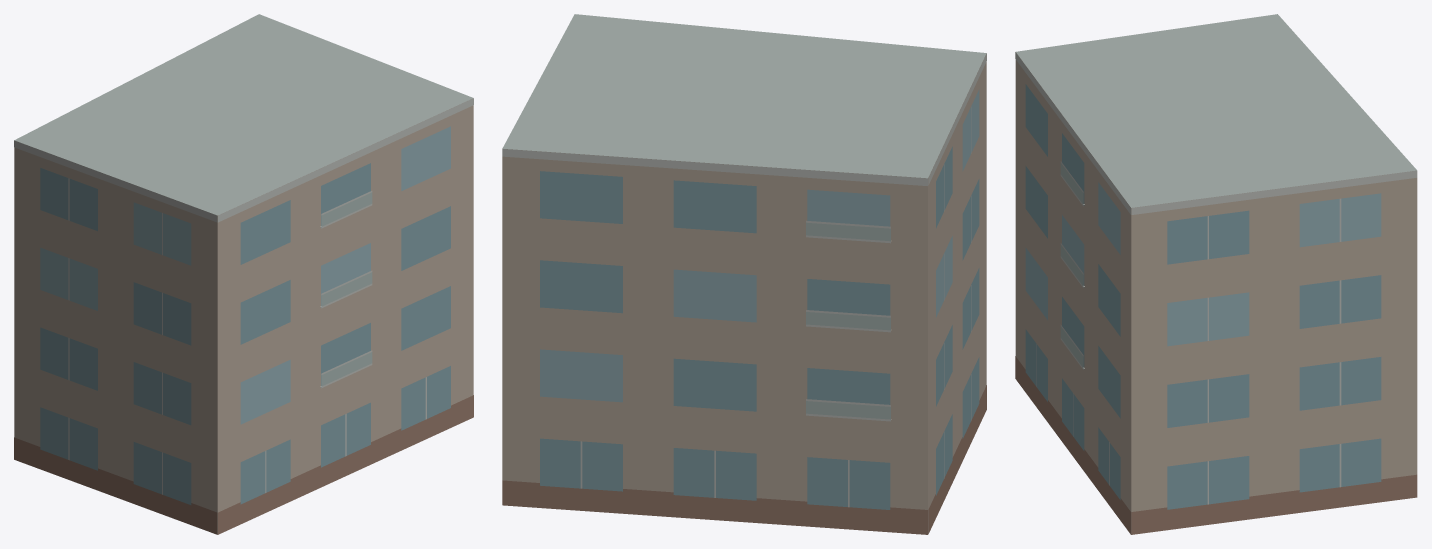
The model's file is survey-upis-32851430.glb.
The picture shows the model from 3 angles, left to right: view 1: azimuth 30°, elevation 25°; view 2: azimuth 150°, elevation 25°; view 3: azimuth 270°, elevation 25°; orthographic projection. The views are drawn at different scales.
Parts seen in each view (by area): view 1: survey-upis-32851430.tmp; view 2: survey-upis-32851430.tmp; view 3: survey-upis-32851430.tmp.
Boxes of the visible parts, bbox=[...] form: survey-upis-32851430.tmp: bbox=[14, 14, 473, 534]; survey-upis-32851430.tmp: bbox=[502, 14, 986, 534]; survey-upis-32851430.tmp: bbox=[1015, 14, 1417, 534].
Size of the model in its own units: 14 by 11 by 12.26.
